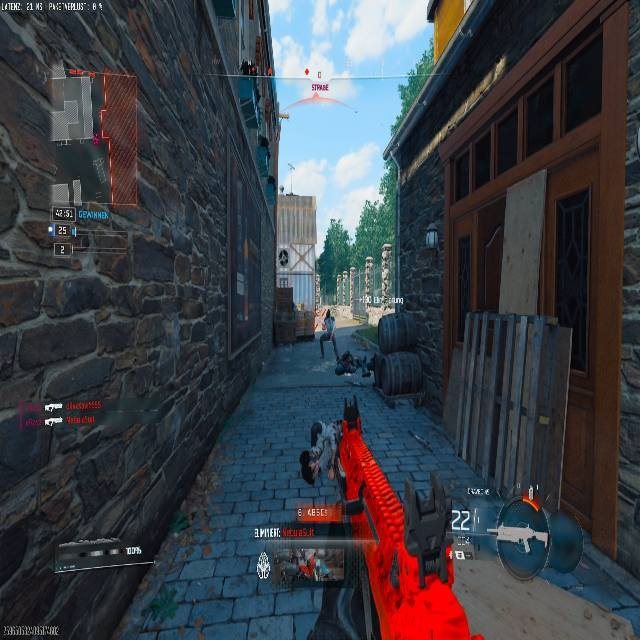player: (316, 311, 337, 359)
